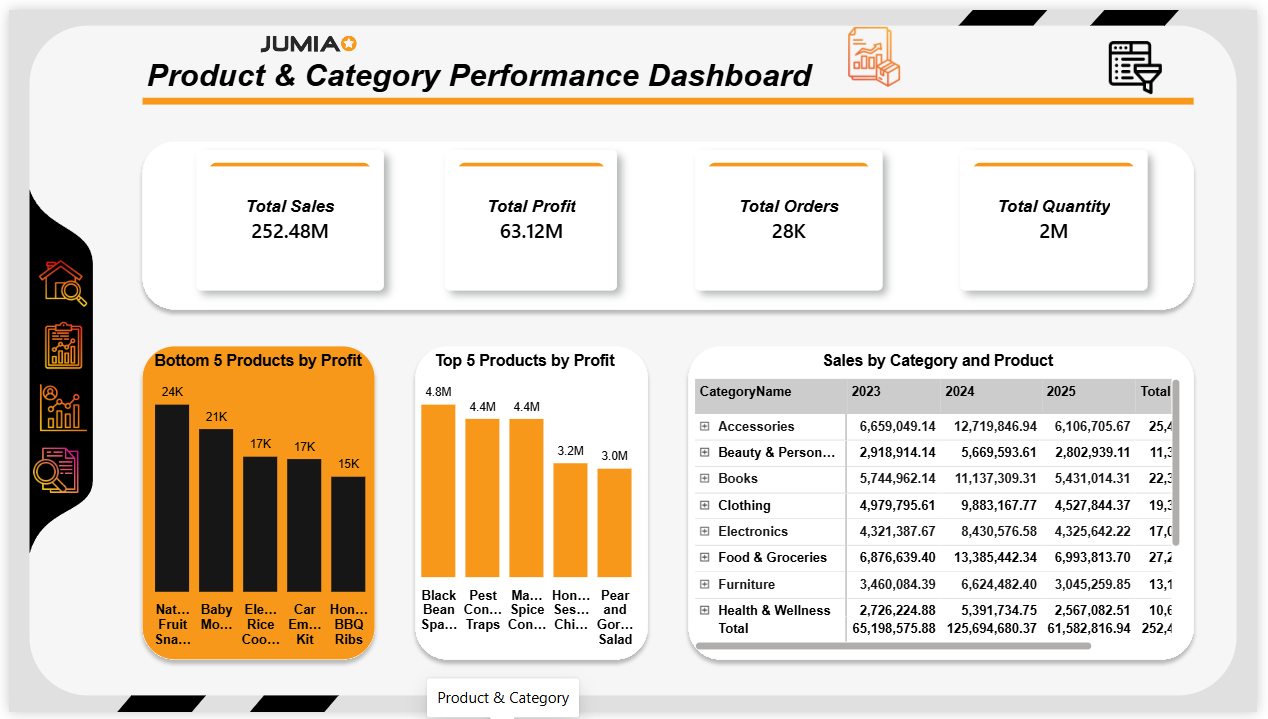

The dashboard page shown, as its layout file describes it:
{"tool":"powerbi","page":{"name":"Product & Category","canvas":[1280,720],"ordinal":4},"visuals":[{"type":"textbox","box":[141.3,16.5,963.3,134.5],"z":0},{"type":"pivotTable","title":"Sales by Category and Product","fields":{"Values":["orders.Total Sales"],"Rows":["categories.CategoryName","products.ProductName"],"Columns":["calendar.DATE.Variation.Date Hierarchy.Year","calendar.DATE.Variation.Date Hierarchy.Month"]},"box":[688,336,528,336],"z":1000},{"type":"image","box":[193.5,0,223.7,68.6],"z":2000},{"type":"cardVisual","fields":{"Data":["address.Totalsales"]},"box":[192,144,192,144],"z":3000},{"type":"cardVisual","fields":{"Data":["address.Totalorders"]},"box":[704,144,192,144],"z":4000},{"type":"cardVisual","fields":{"Data":["address.TotalQuantity"]},"box":[976,144,192,144],"z":5000},{"type":"cardVisual","fields":{"Data":["address.Profit"]},"box":[448,144,176,144],"z":7000},{"type":"columnChart","title":"Top 5 Products by Profit","fields":{"Category":["products.ProductName"],"Y":["orders.Total Profit"]},"box":[384,336,288,336],"z":8000},{"type":"image","box":[1087.4,16.1,135.3,84.4],"z":9000},{"type":"image","box":[0,368,112,80],"z":15000},{"type":"image","box":[16,224,80,112],"z":16000},{"type":"columnChart","title":"Bottom 5 Products by Profit","fields":{"Category":["products.ProductName"],"Y":["orders.Total Profit"]},"box":[112,336,288,336],"z":17000},{"type":"image","box":[816,0,144,96],"z":18000},{"type":"image","box":[0,304,112,80],"z":19000},{"type":"image","box":[0,432,96,80],"z":20000}]}

Visuals, with their boxes in screenshot pixels (x1, y1, x2, y2), scaled from the page's 1280x720 canvas onto the 1268x719 screenshot:
textbox: locate(140, 16, 1094, 151)
"Sales by Category and Product" pivotTable: locate(682, 336, 1205, 671)
image: locate(192, 0, 413, 69)
cardVisual - address.Totalsales: locate(190, 144, 380, 288)
cardVisual - address.Totalorders: locate(697, 144, 888, 288)
cardVisual - address.TotalQuantity: locate(967, 144, 1157, 288)
cardVisual - address.Profit: locate(444, 144, 618, 288)
"Top 5 Products by Profit" columnChart: locate(380, 336, 666, 671)
image: locate(1077, 16, 1211, 100)
image: locate(0, 367, 111, 447)
image: locate(16, 224, 95, 336)
"Bottom 5 Products by Profit" columnChart: locate(111, 336, 396, 671)
image: locate(808, 0, 951, 96)
image: locate(0, 304, 111, 383)
image: locate(0, 431, 95, 511)
